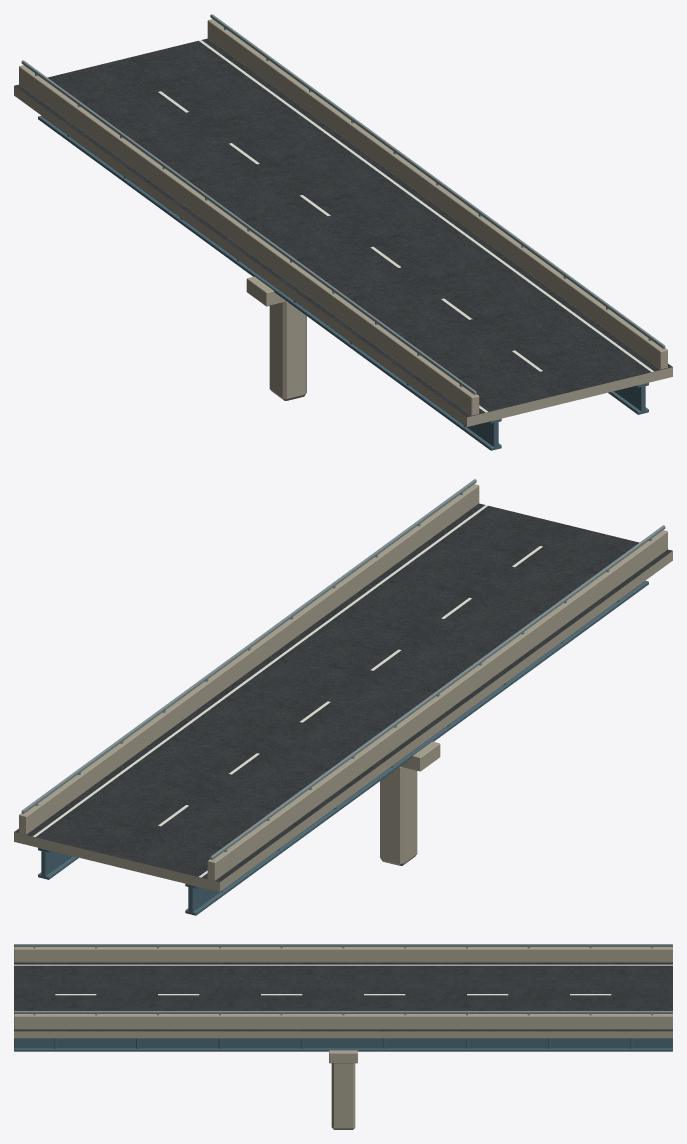
3 renders of one model, top to bottom at view 1: azimuth 30°, elevation 25°; view 2: azimuth 150°, elevation 25°; view 3: azimuth 270°, elevation 25°, orthographic. The views are drawn at different scales.
Visible parts, largest first — view 1: Bridge Deck, Parapets, Steel Rails, Concrete Piers, Girder Flanges, Bridge Edge Lines, Plate Girders, Bridge Centre Dashes, Pier Cap; view 2: Bridge Deck, Parapets, Steel Rails, Concrete Piers, Girder Flanges, Bridge Edge Lines, Plate Girders, Bridge Centre Dashes, Pier Cap; view 3: Bridge Deck, Parapets, Plate Girders, Steel Rails, Girder Flanges, Concrete Piers, Bridge Edge Lines, Bridge Centre Dashes, Pier Cap.
Boxes of the visible parts, x1,y1,x2,y2 form: Bridge Deck: (14,38,672,426); Parapets: (19,19,667,415); Steel Rails: (21,14,665,394); Concrete Piers: (269,301,306,400); Girder Flanges: (38,116,648,450); Bridge Edge Lines: (199,40,653,412); Plate Girders: (42,116,645,448); Bridge Centre Dashes: (158,91,542,371); Pier Cap: (246,276,286,306); Bridge Deck: (14,503,672,891); Parapets: (19,484,667,880); Steel Rails: (21,479,665,859); Concrete Piers: (380,766,417,865); Girder Flanges: (38,581,648,915); Bridge Edge Lines: (33,505,487,877); Plate Girders: (41,581,644,913); Bridge Centre Dashes: (158,546,542,826); Pier Cap: (400,741,440,771); Bridge Deck: (14,962,672,1038); Parapets: (14,947,672,1029); Plate Girders: (14,1038,672,1048); Steel Rails: (14,944,672,1013); Girder Flanges: (14,1048,672,1051); Concrete Piers: (331,1063,355,1129); Bridge Edge Lines: (14,964,672,965); Bridge Centre Dashes: (55,994,611,995); Pier Cap: (329,1050,357,1063).
Size of the model in its own units: 8.4 by 6.91 by 32.
Materials: 5 (1 with a texture image).
